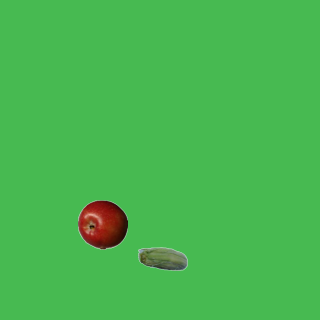Apple Braeburn: (77, 199, 127, 249)
Corn Husk: (137, 235, 187, 285)
